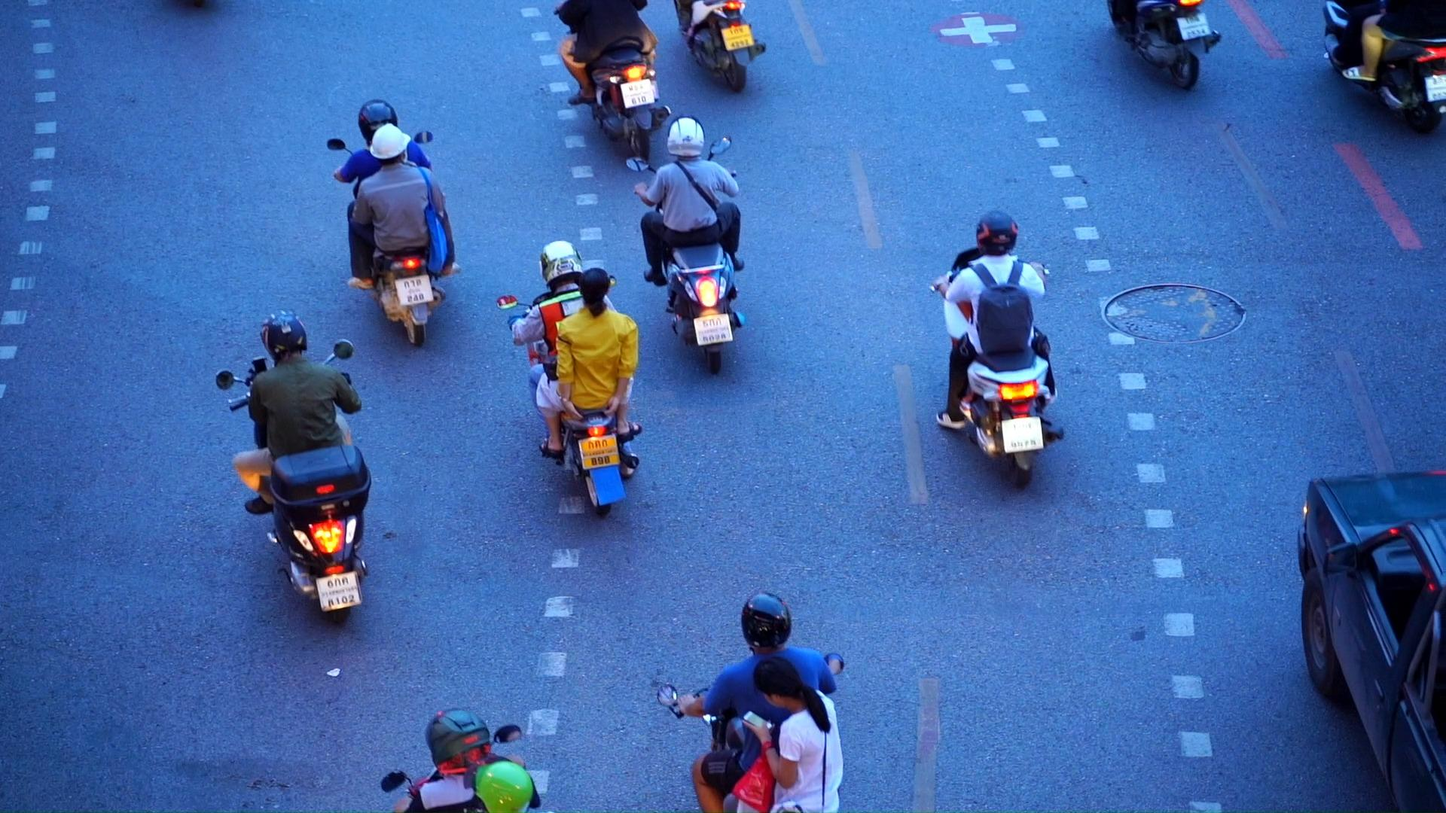driver: (213, 309, 374, 625), (657, 592, 845, 813), (497, 240, 643, 518), (928, 209, 1065, 487), (327, 99, 460, 348), (626, 114, 746, 373), (553, 0, 673, 161), (381, 708, 545, 813), (1322, 0, 1446, 134), (1106, 0, 1221, 91), (673, 0, 767, 94)
helmet: (425, 708, 490, 776), (464, 753, 535, 813), (741, 592, 792, 649), (259, 309, 308, 361), (539, 240, 583, 290), (976, 209, 1019, 256), (358, 99, 398, 147), (370, 123, 411, 166), (667, 114, 705, 158)
no-helmet: (753, 656, 830, 714), (578, 267, 610, 318)
